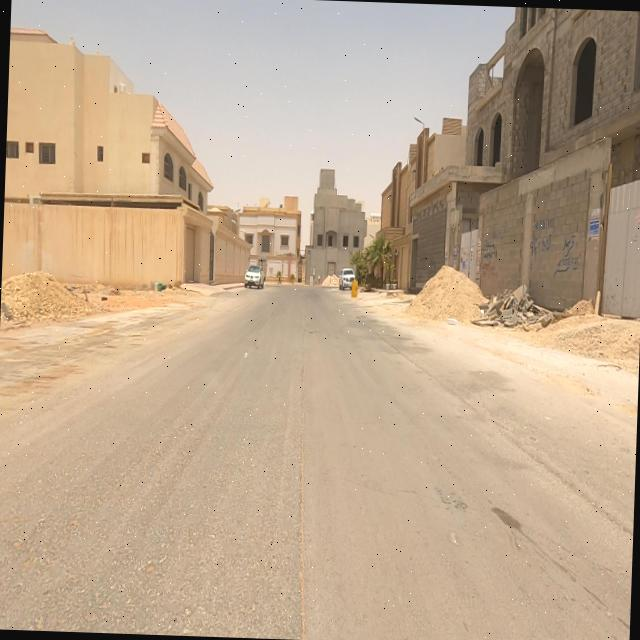Graffiti: (554, 234, 582, 277), (531, 218, 554, 251), (481, 237, 498, 261)
